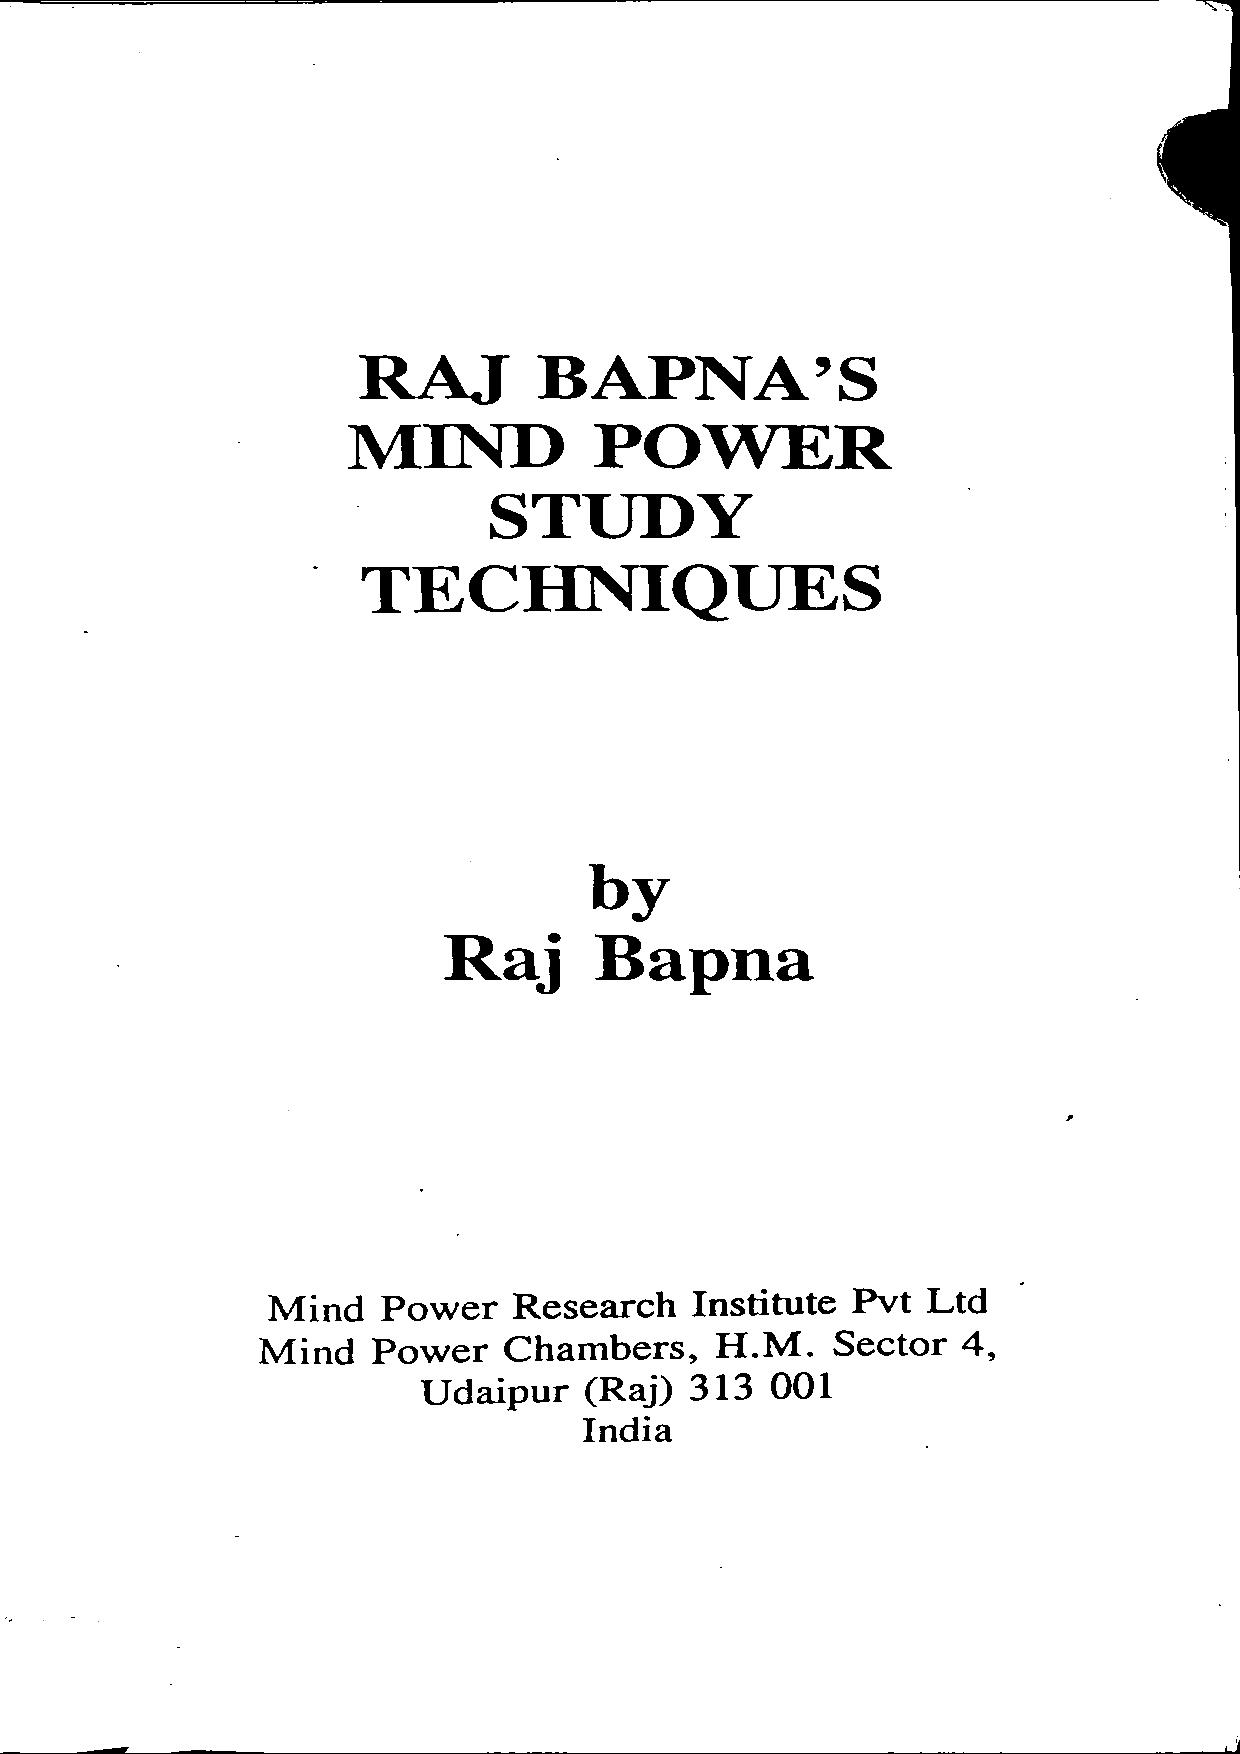author: (435, 862, 817, 994)
title: (344, 345, 895, 627)
